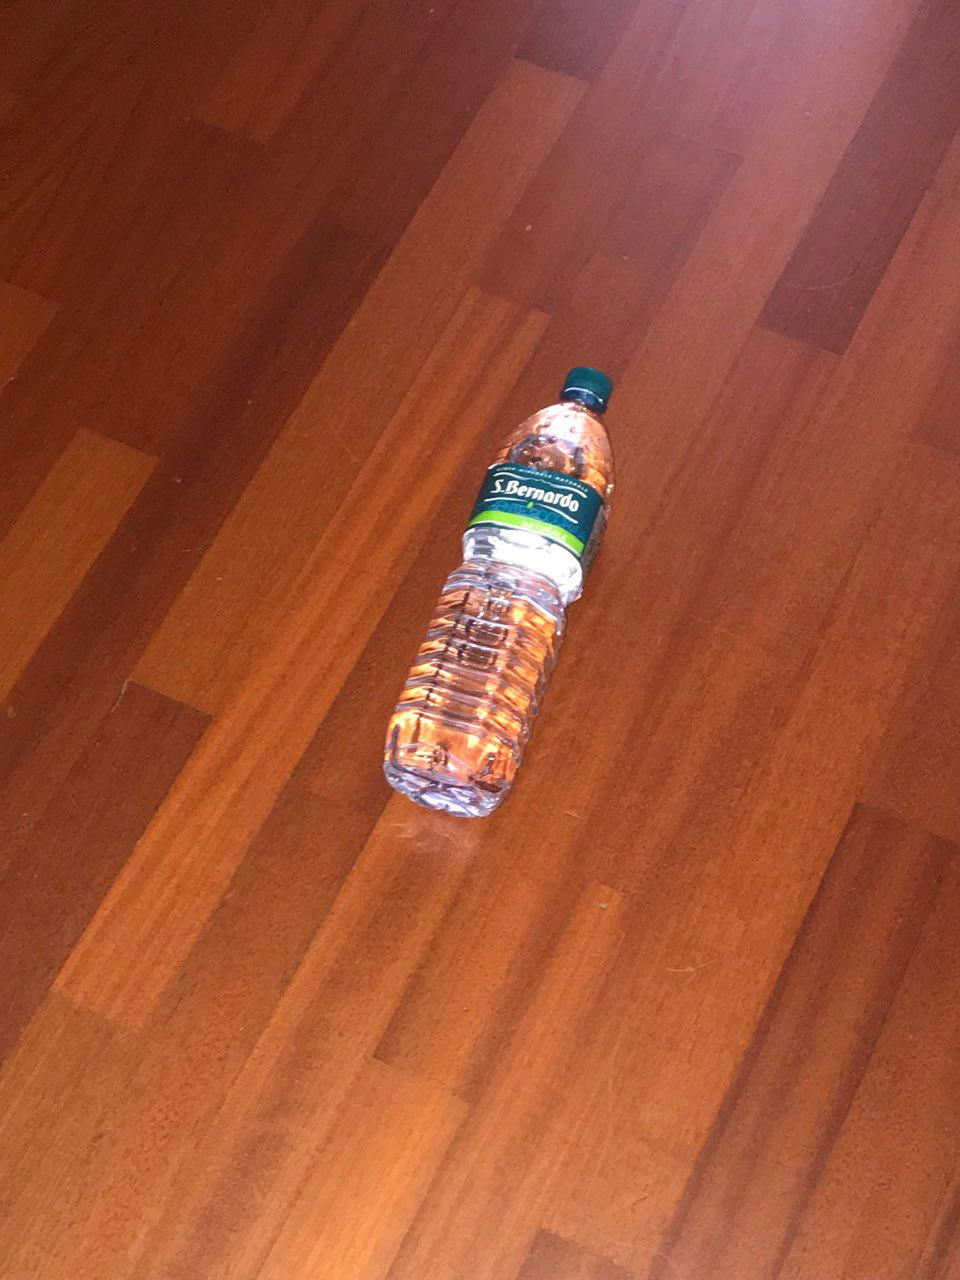san_bernardo: (381, 367, 614, 819)
